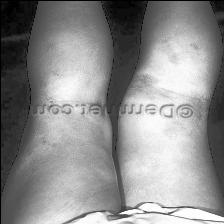Non-Cancerous Skin Condition: (118, 65, 166, 101)
